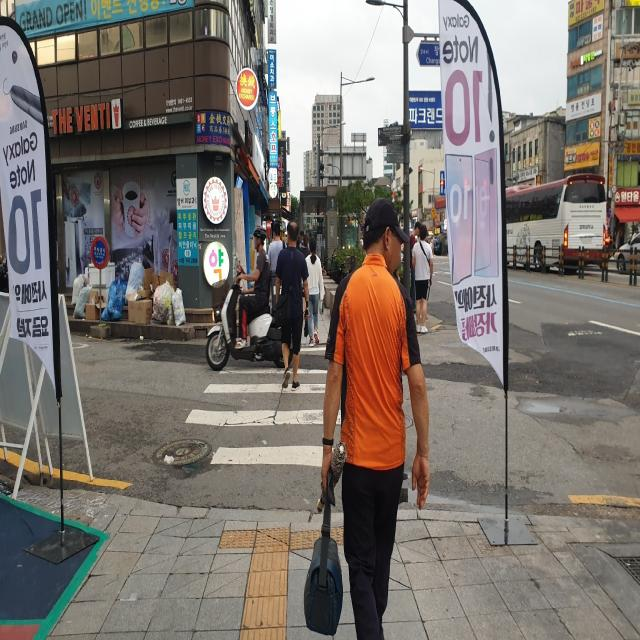횡단보도: (163, 345, 343, 469)
